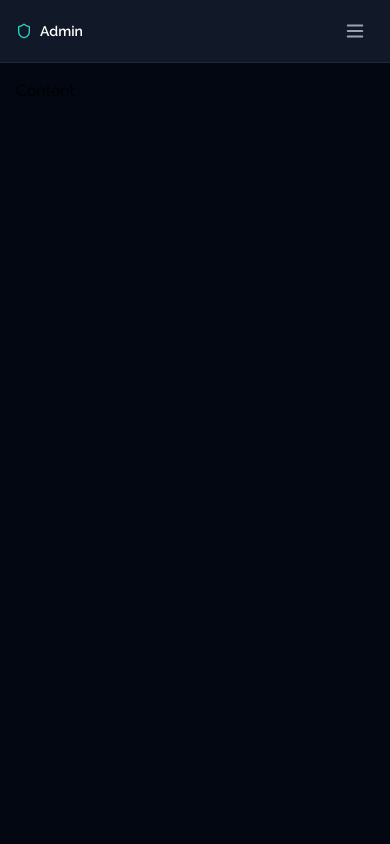
Test: AdminLayout › closes mobile drawer when clicking close button
What coordinates should you click on to do the following:
click the button named "メニューを開く"
I would click on:
 (355, 31)
Its box is [336,12,374,50].
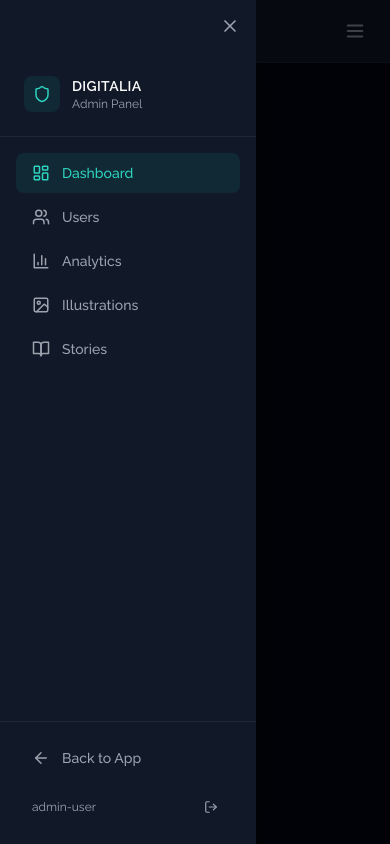
What coordinates should you click on to do the following:
click the button named "メニューを閉じる"
I would click on:
 (230, 26)
Its box is [212,8,248,44].
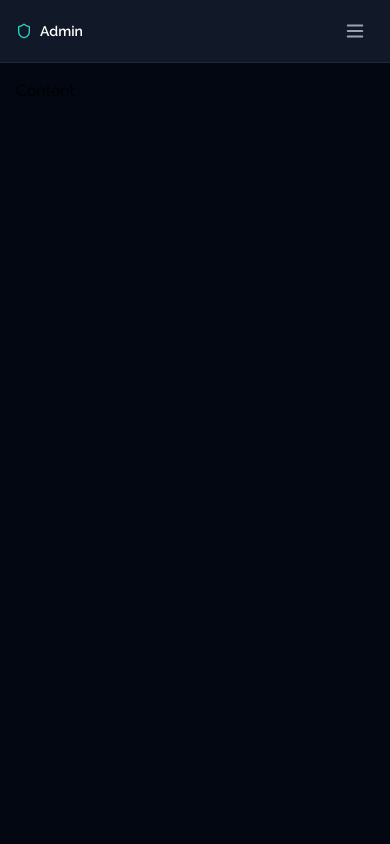
Check: the button labelled "メニューを閉じる" is gone
